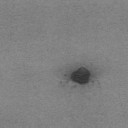iron sheet ash: (70, 66, 91, 85)
